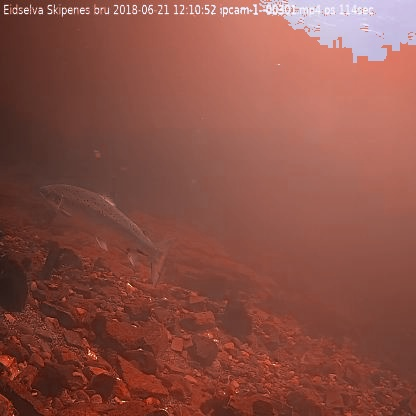salmon: (38, 184, 179, 289)
